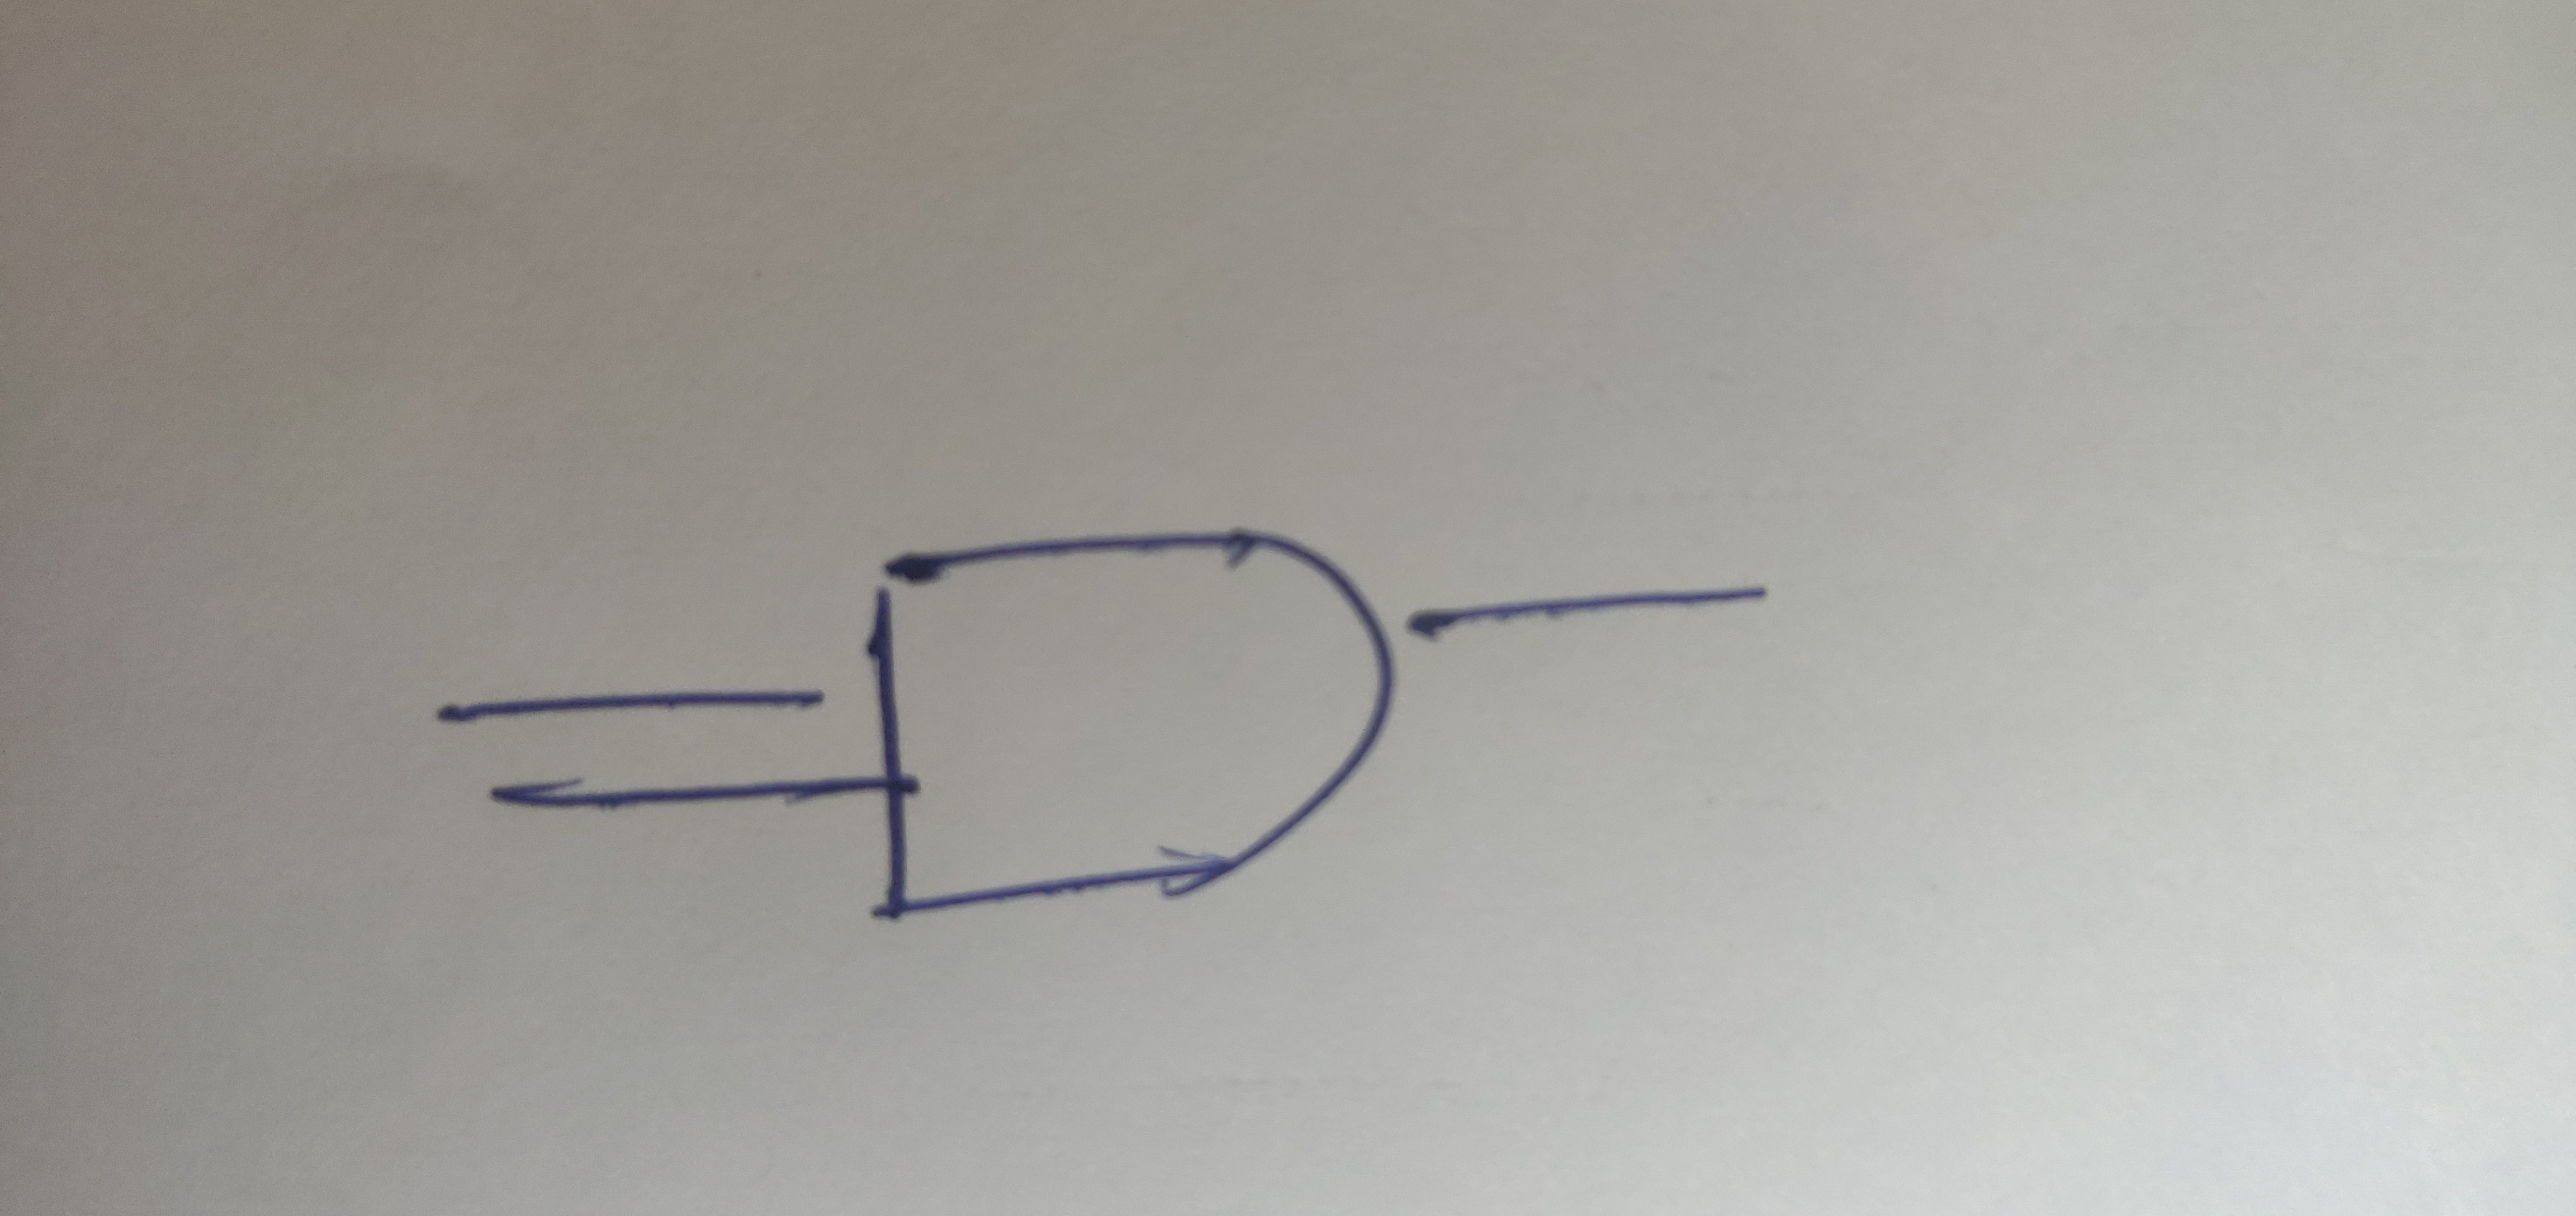and: (766, 486, 1505, 976)
